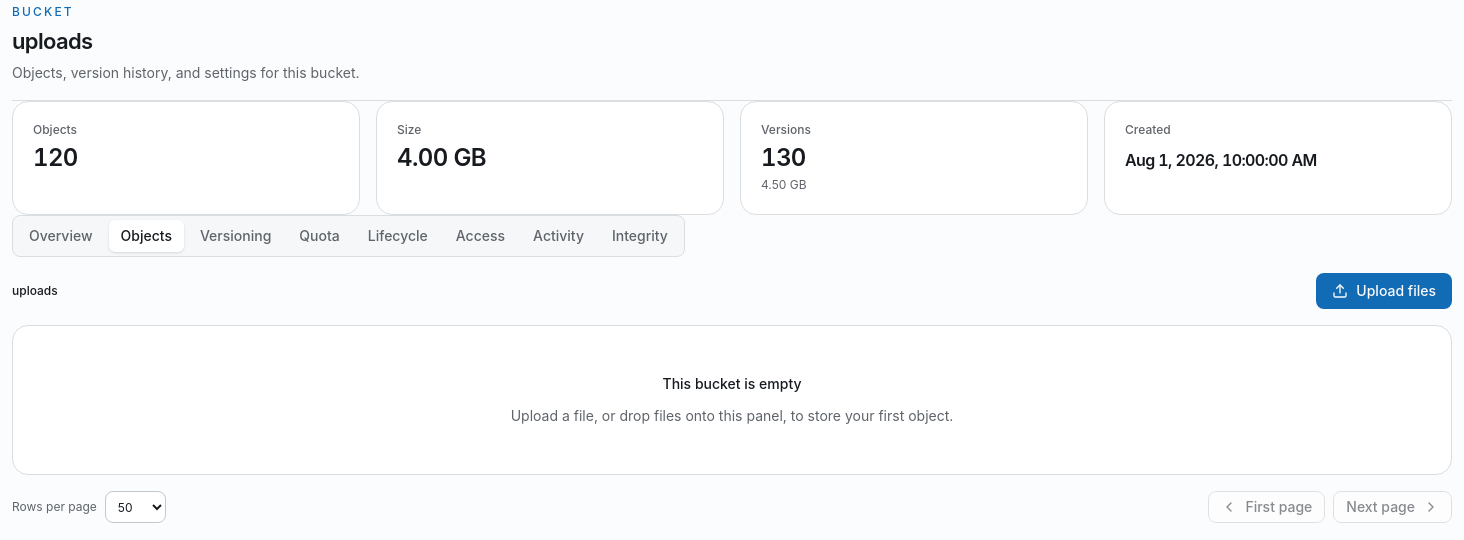
Scenario: BucketDetail tabs › scopes activity to this bucket rather than the whole feed
Click the tab "Activity" at (559, 236), box [521,220,596,252]
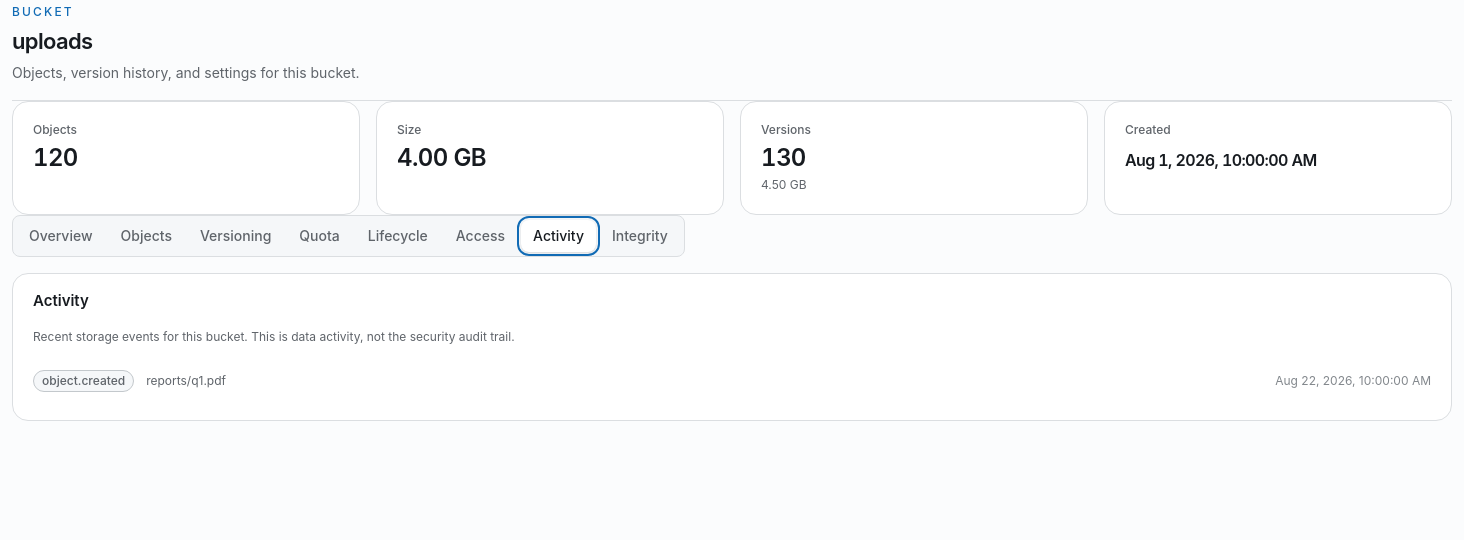
Check: the text "object.created" is shown, box [33,370,134,392]
